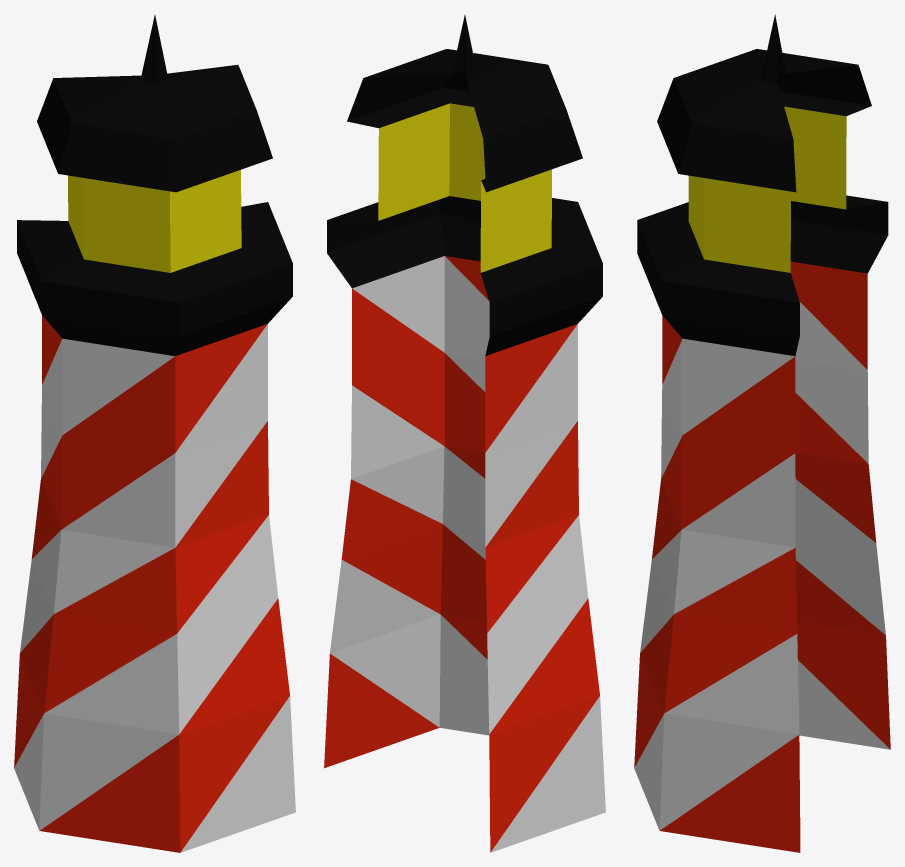
The model's file is beach-_Lighthouse.fbx.
3 views of the same model, side by side, from view 1: azimuth 30°, elevation 25°; view 2: azimuth 150°, elevation 25°; view 3: azimuth 270°, elevation 25° (orthographic).
Visible parts, largest first — view 1: lighthouse; view 2: lighthouse; view 3: lighthouse.
Boxes of the visible parts, box(x1,y1,x2,y2) form: lighthouse: box(14, 15, 295, 852); lighthouse: box(324, 15, 605, 852); lighthouse: box(634, 14, 890, 852).
Bounding box in the file's own units: 0.8569 × 0.7421 × 2.48.
